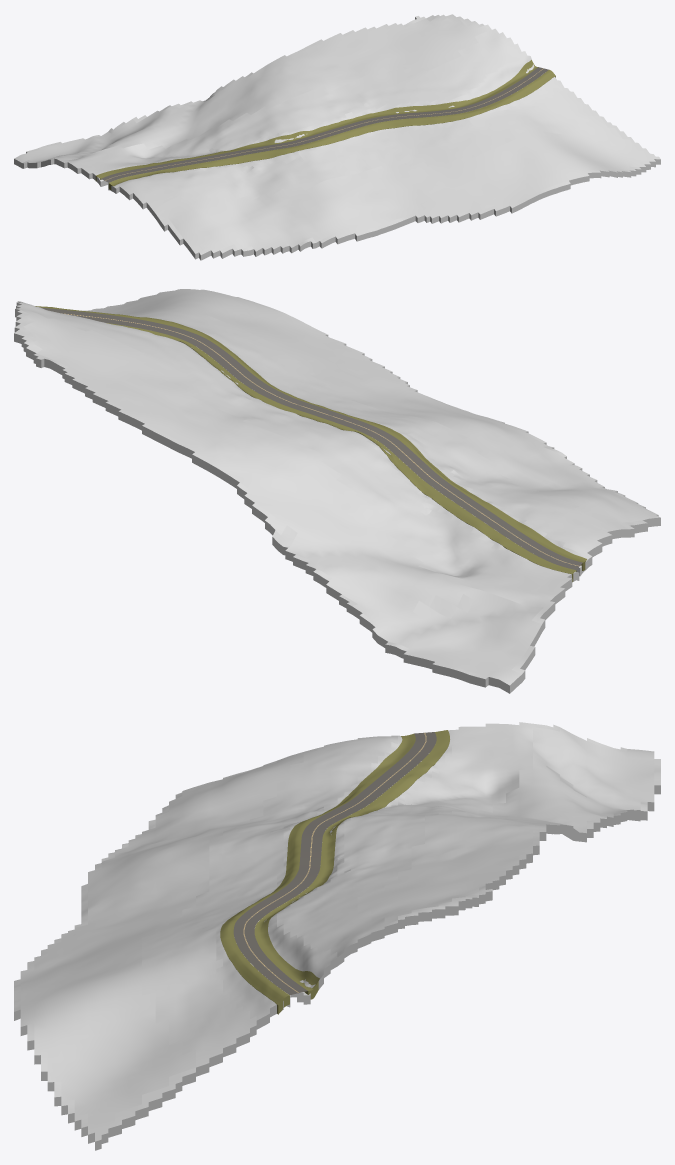
File: conz_200.glb
3 views of the same model, one above another, from view 1: azimuth 30°, elevation 25°; view 2: azimuth 150°, elevation 25°; view 3: azimuth 270°, elevation 25° (orthographic). The views are drawn at different scales.
Visible parts, largest first — view 1: terrain200, verge200R, road200, verge200L; view 2: terrain200, road200, verge200L, verge200R, paint_yellow200; view 3: terrain200, road200, verge200L, verge200R.
Boxes of the visible parts, x1,y1,x2,y2 form: terrain200: [14, 14, 660, 260]; verge200R: [108, 69, 555, 189]; road200: [101, 67, 548, 182]; verge200L: [95, 60, 537, 181]; terrain200: [14, 289, 660, 693]; road200: [41, 307, 582, 569]; verge200L: [106, 323, 576, 581]; verge200R: [35, 306, 586, 570]; paint_yellow200: [64, 313, 579, 566]; terrain200: [14, 722, 660, 1150]; road200: [233, 732, 436, 995]; verge200L: [254, 730, 449, 999]; verge200R: [220, 733, 415, 1014].
Bounding box in the file's own units: 278 × 57.02 × 192.
